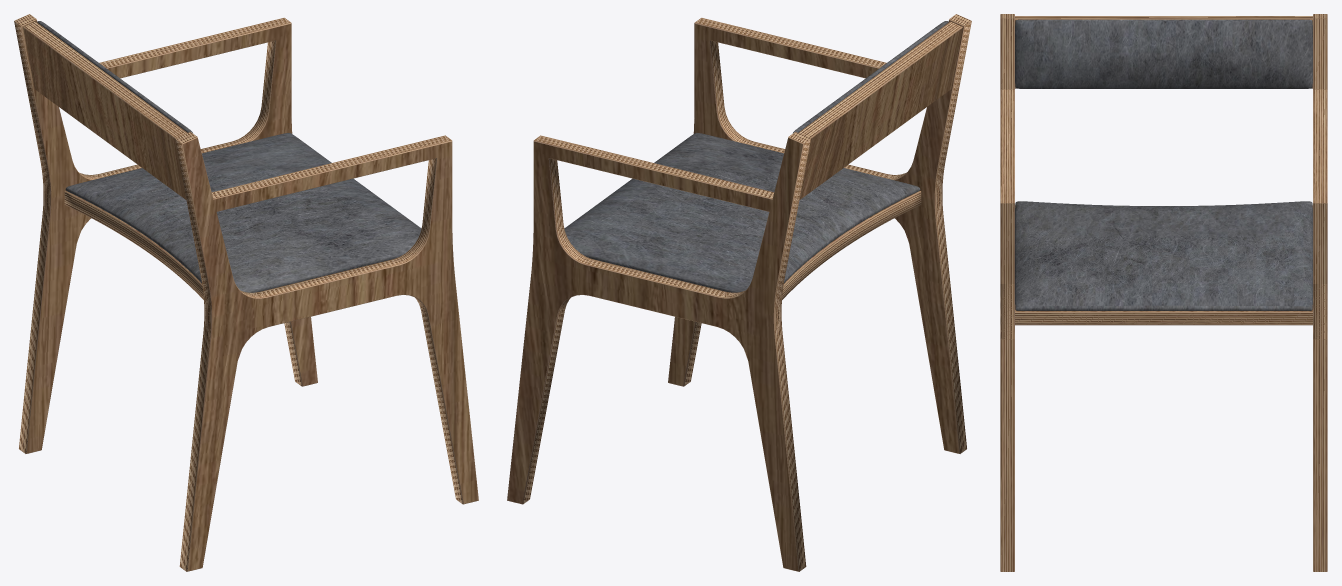
File: chair.dae
The picture shows the model from 3 angles, left to right: view 1: azimuth 30°, elevation 25°; view 2: azimuth 150°, elevation 25°; view 3: azimuth 270°, elevation 25°; orthographic projection. The views are drawn at different scales.
Parts seen in each view (by area): view 1: chair_001; view 2: chair_001; view 3: chair_001.
Boxes of the visible parts, x1,y1,x2,y2 form: chair_001: (14,14,478,571); chair_001: (507,14,971,571); chair_001: (1000,14,1327,571).
Size of the model in its own units: 0.5036 by 0.495 by 0.7006.
Materials: 3 (3 with a texture image).
